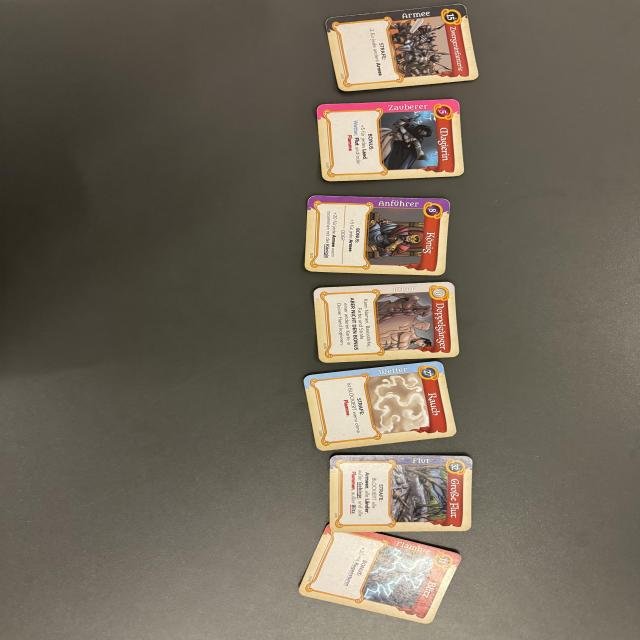Doppelganger: (314, 282, 460, 362)
Dwarvish Infantry: (323, 4, 482, 94)
Elemental Enchantress: (315, 99, 467, 181)
Great Flood: (330, 456, 473, 532)
King: (301, 195, 451, 275)
Lightning: (296, 521, 461, 626)
Smoke: (303, 361, 460, 455)
